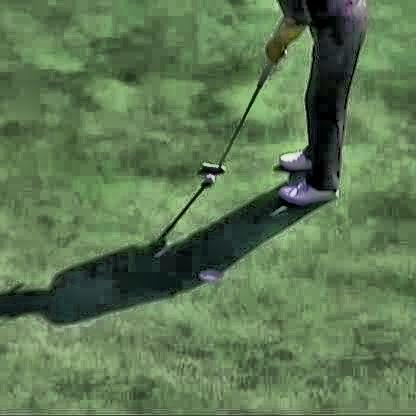golfball: (203, 170, 210, 181)
